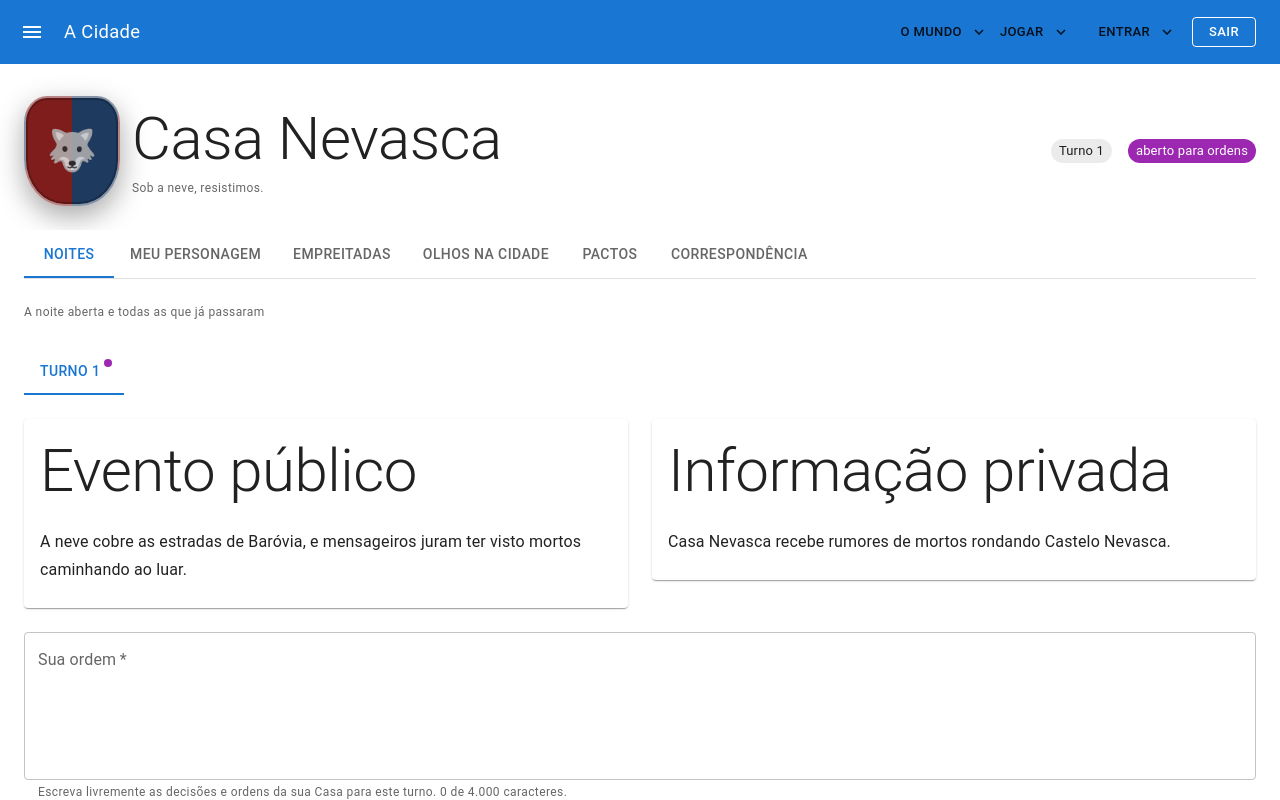
Test case: GamePage › mostra um chip por ativo da Casa
The width and height of the screenshot is (1280, 800).
Click the tab "Meu personagem" at (196,254), box [114, 230, 277, 278]
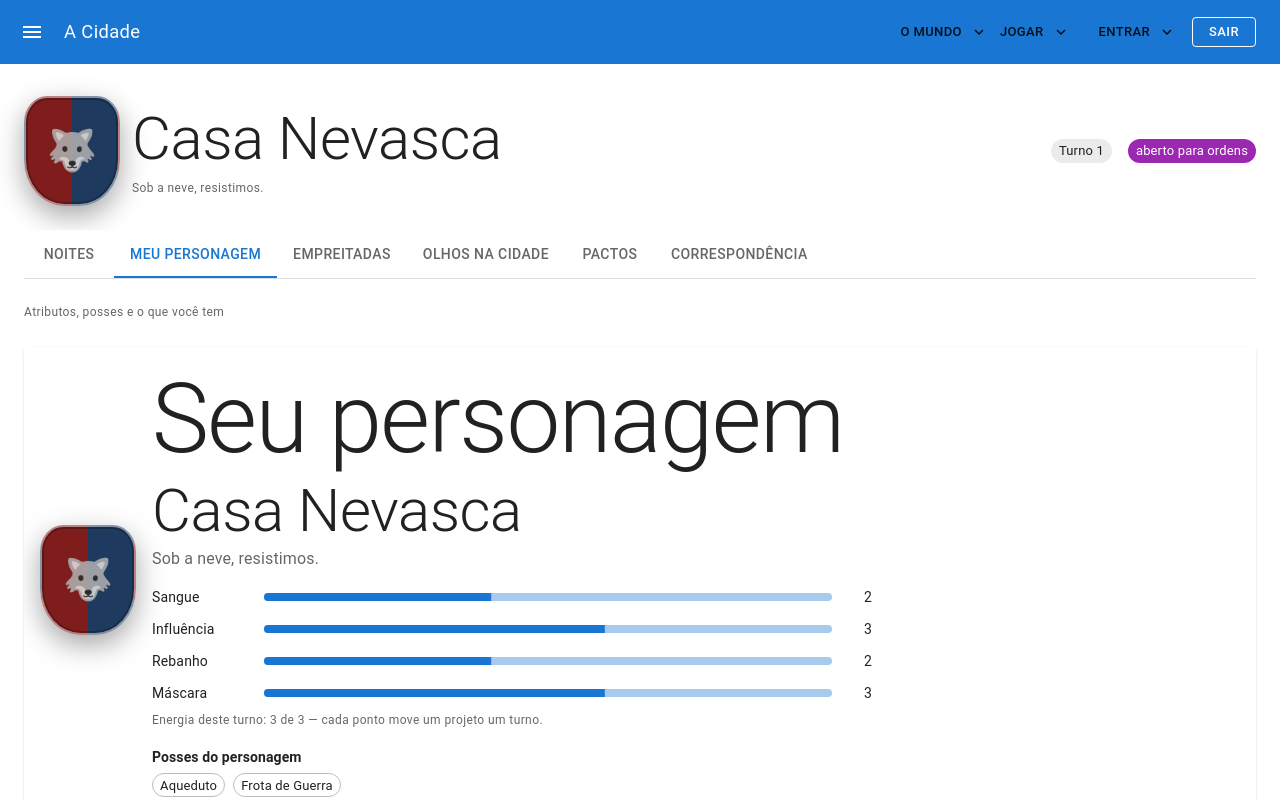
Expected: the text "Aqueduto" is shown, [160, 778, 217, 792]
Expected: the text "Frota de Guerra" is shown, [234, 776, 340, 795]
